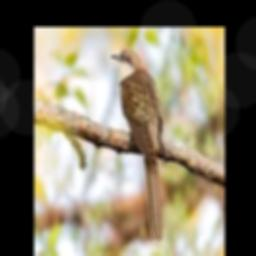Cuckoo: (110, 47, 164, 243)
